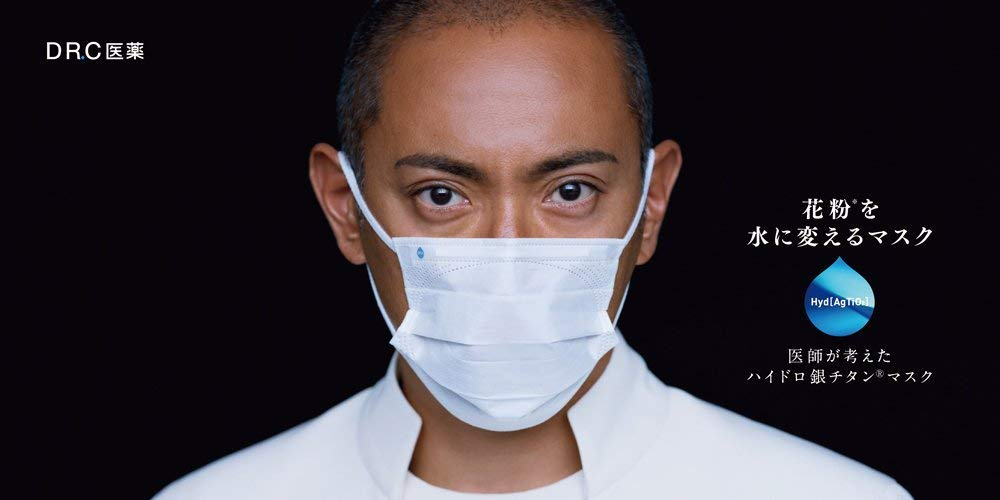mask: (398, 240, 604, 433)
